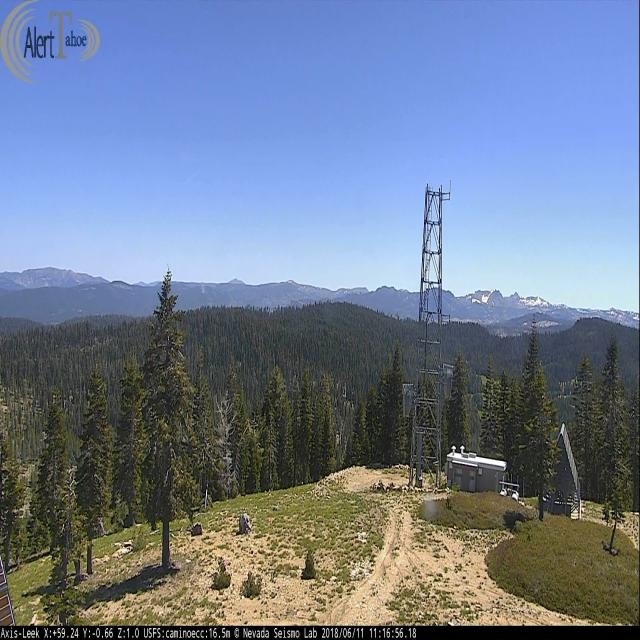smoke: (201, 284, 204, 294)
